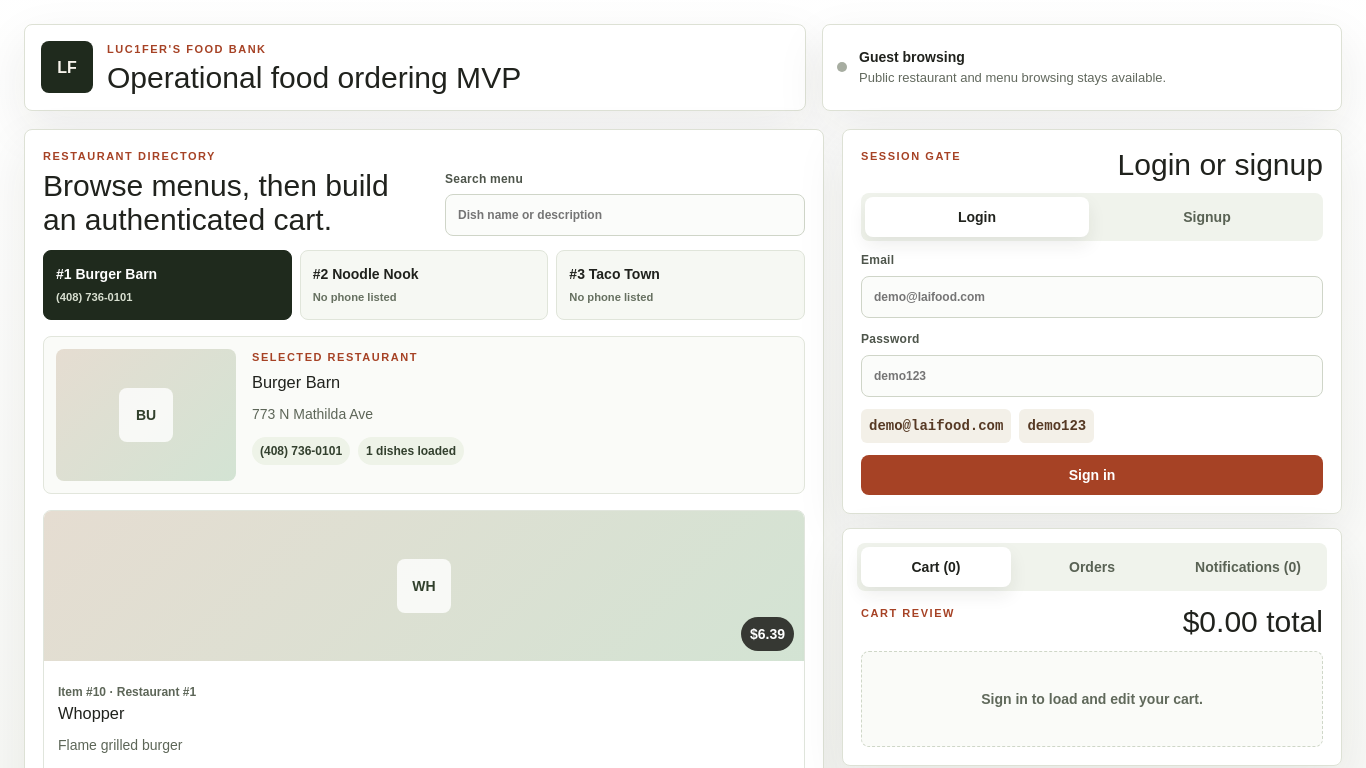
Test: guest browsing and auth › resets the signup form and switches to login after a successful signup
The width and height of the screenshot is (1366, 768).
Click the button "Signup".
click(1207, 218)  # box [1095,198,1319,238]
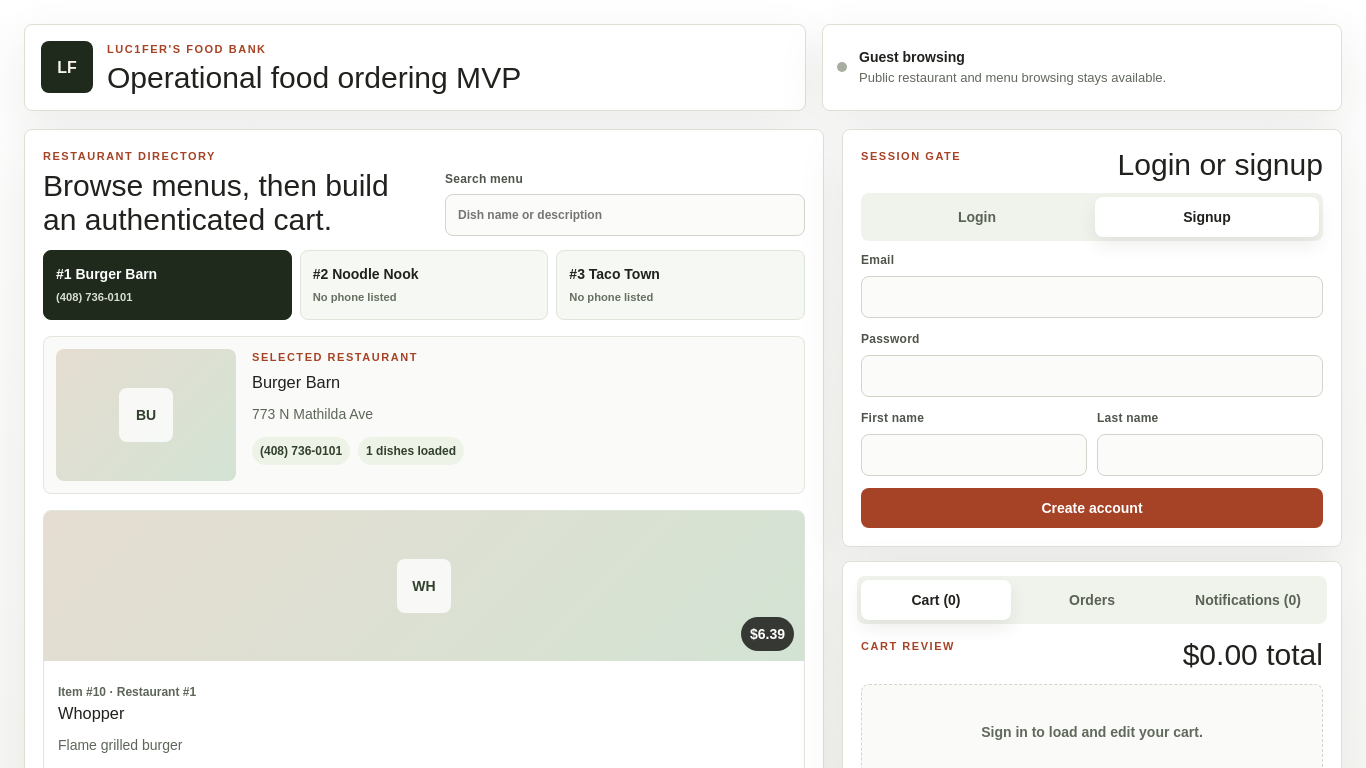
Type "new@example.com" into the field labelled "Email".
click(1092, 297); type("new@example.com")  # box [861,276,1323,318]
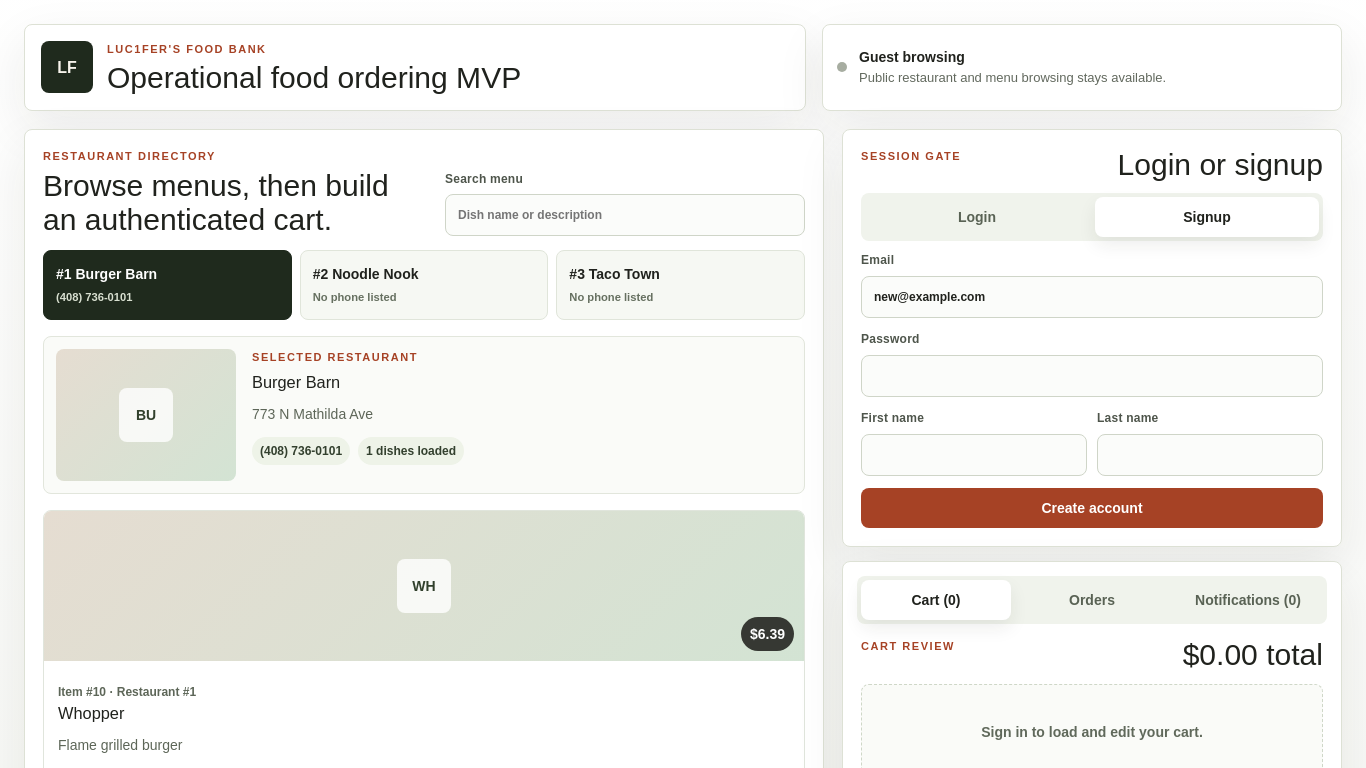
Type "secret123" into the password field labelled "Password".
click(1092, 376); type("secret123")  # box [861,355,1323,397]
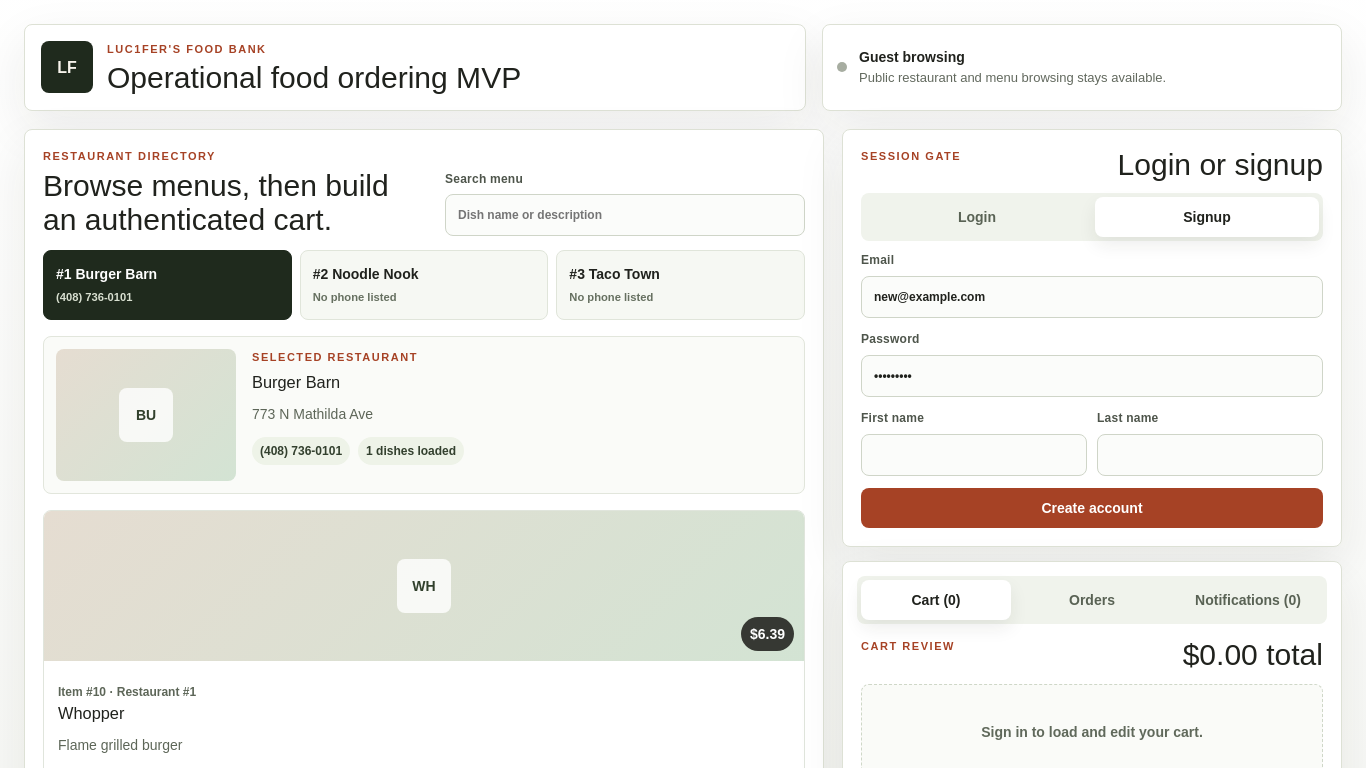
Type "New" into the field labelled "First name".
click(974, 455); type("New")  # box [861,434,1087,476]
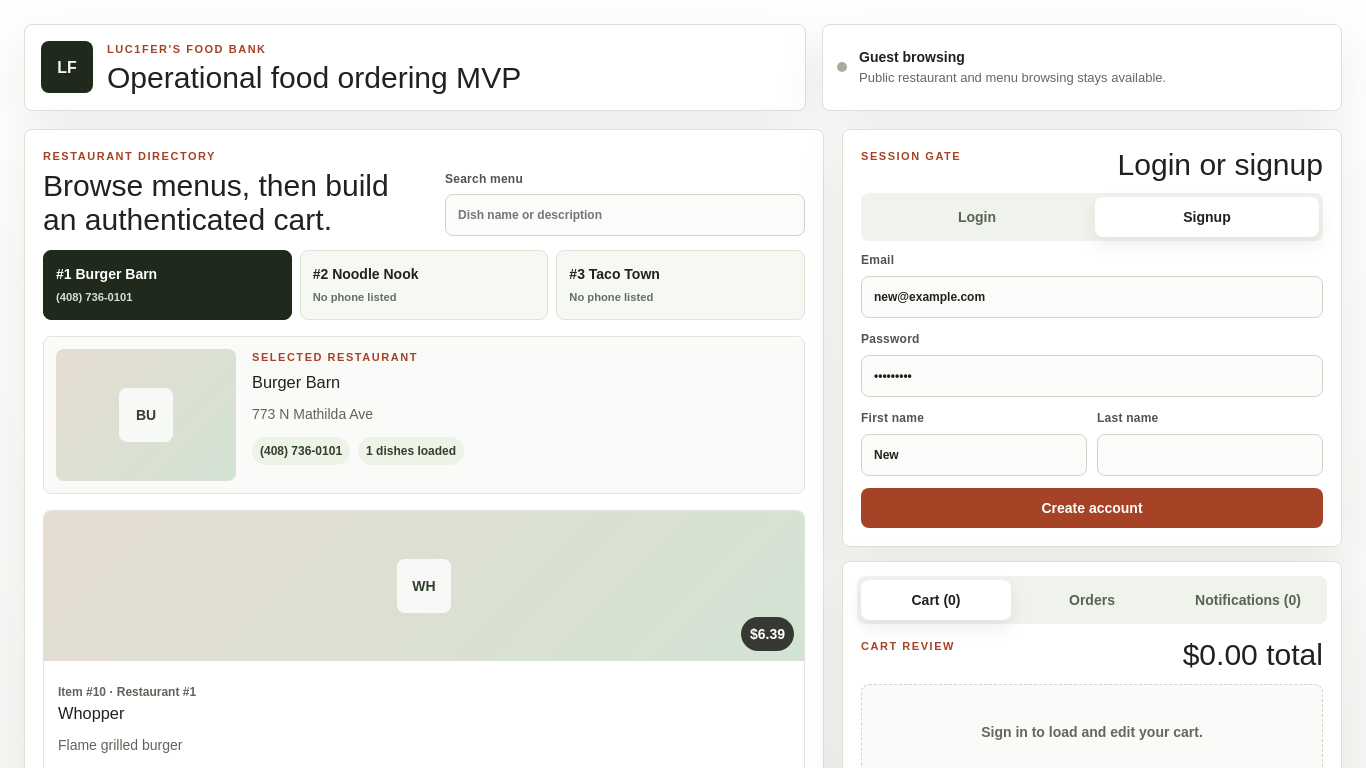
Type "User" into the field labelled "Last name".
click(1210, 455); type("User")  # box [1097,434,1323,476]
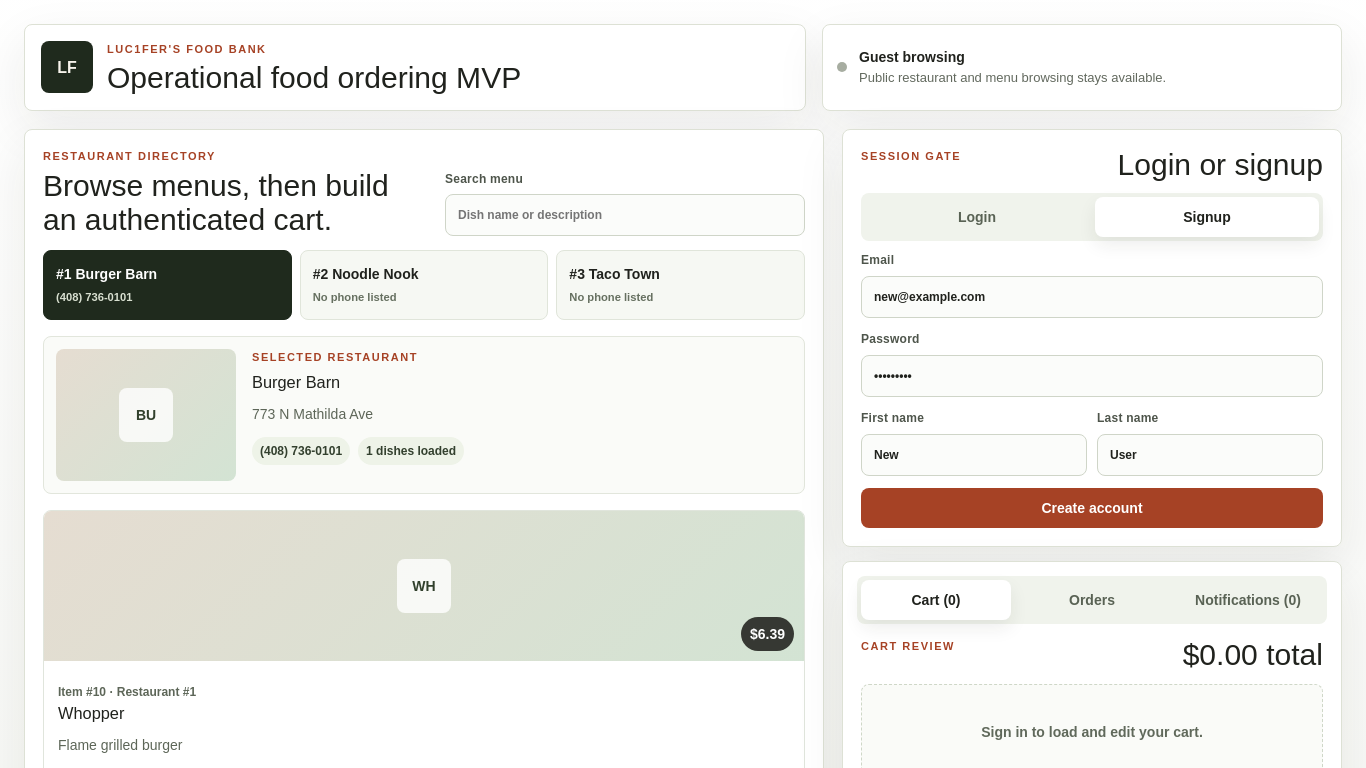
Submit the form "Create account", box [861,252,1323,528]
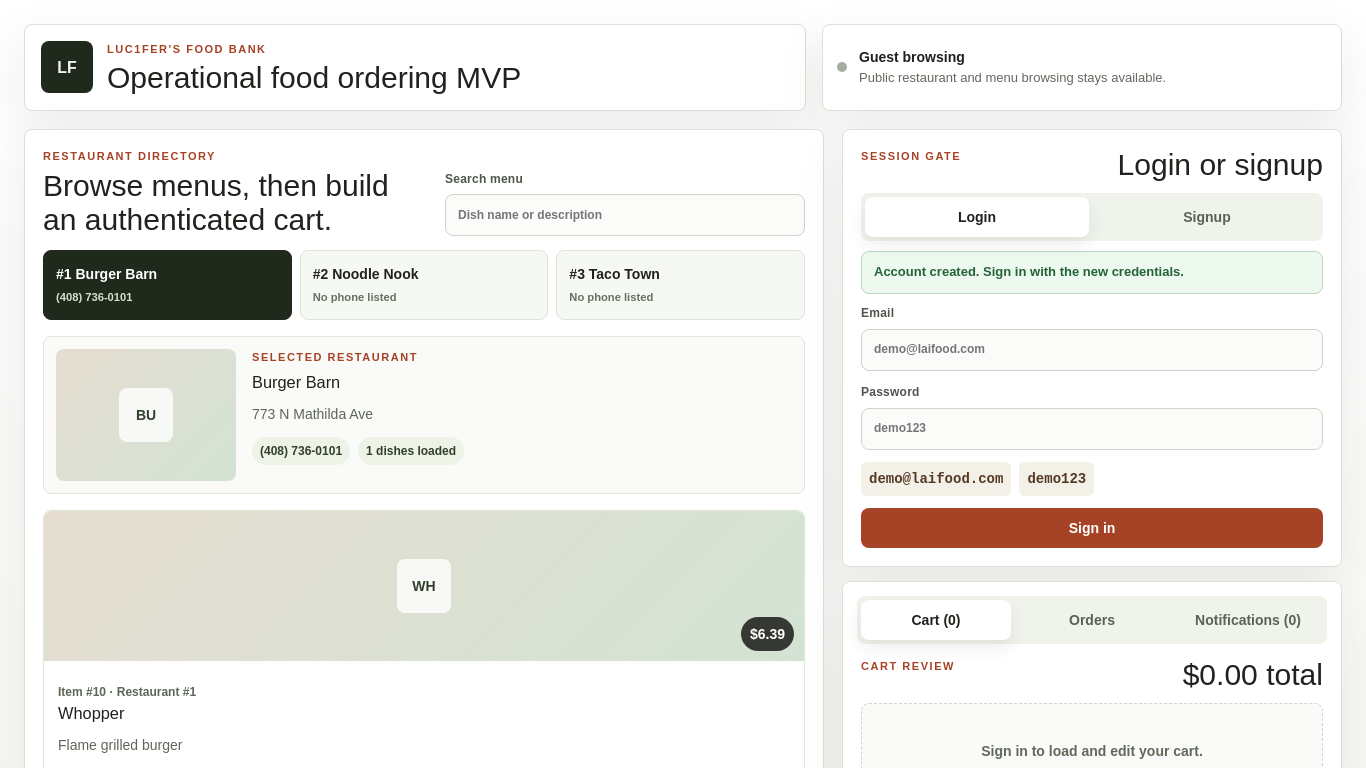
Check: the text "Account created. Sign in with the new credentials." is shown, box [861,252,1323,294]
Check: the button "Sign in" is shown, box [861,508,1323,548]
